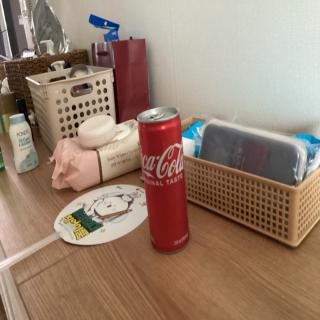cocacola: (136, 103, 194, 258)
